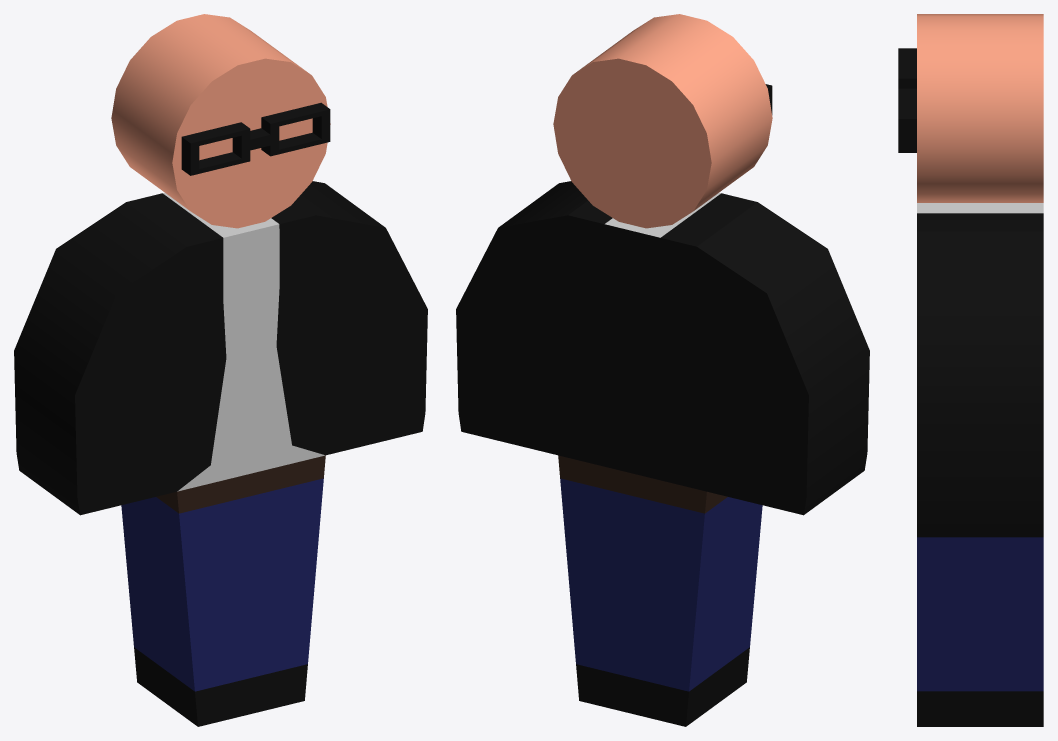
Rendered from head_of_prison.fbx.
The picture shows the model from 3 angles, left to right: view 1: azimuth 30°, elevation 25°; view 2: azimuth 150°, elevation 25°; view 3: azimuth 270°, elevation 25°; orthographic projection. The views are drawn at different scales.
Visible parts, largest first — view 1: Box001, Cylinder001, Box002; view 2: Box001, Cylinder001; view 3: Box001, Cylinder001, Box002.
Part boxes in pixels (box(x1,y1,x2,y2)): Box001: box(14, 181, 427, 726); Cylinder001: box(111, 14, 330, 228); Box002: box(181, 102, 330, 175); Box001: box(456, 181, 869, 726); Cylinder001: box(553, 14, 772, 228); Box001: box(917, 203, 1043, 726); Cylinder001: box(917, 14, 1043, 202); Box002: box(898, 48, 916, 152).
Size of the model in its own units: 66.88 by 118 by 22.95.
